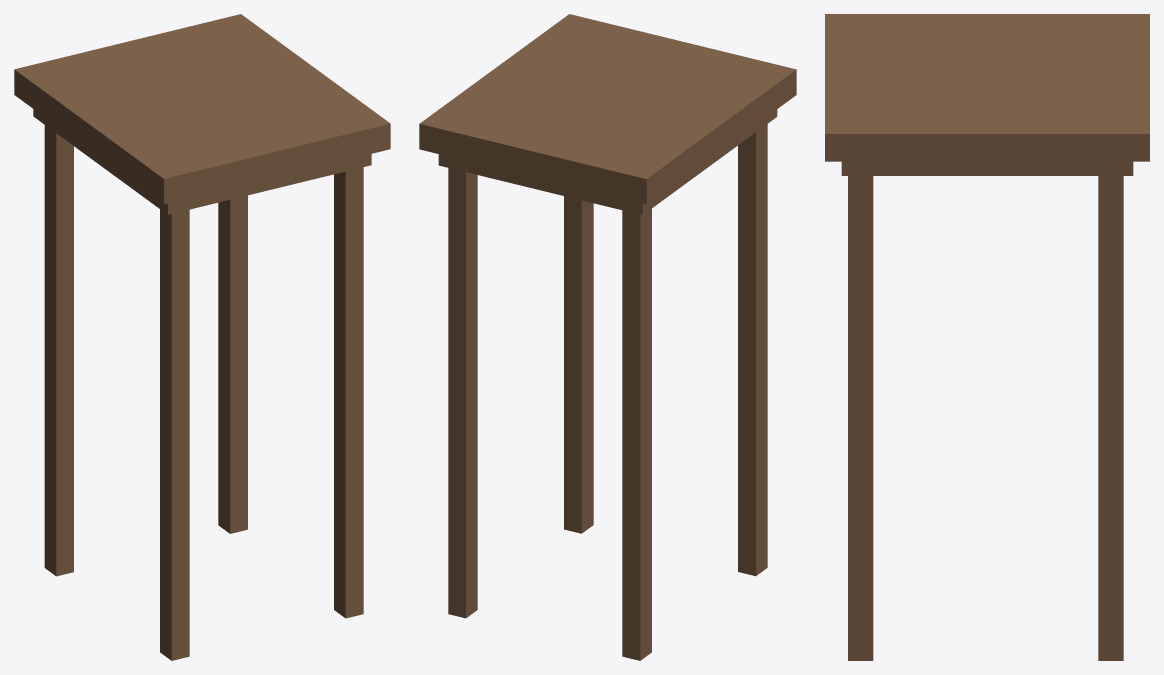
File: BackhouseNightstand.fbx
The picture shows the model from 3 angles, left to right: view 1: azimuth 30°, elevation 25°; view 2: azimuth 150°, elevation 25°; view 3: azimuth 270°, elevation 25°; orthographic projection. The views are drawn at different scales.
Visible parts, largest first — view 1: pCube392; view 2: pCube392; view 3: pCube392.
Part boxes in pixels (box(x1,y1,x2,y2)): pCube392: box(14, 14, 390, 660); pCube392: box(419, 14, 796, 660); pCube392: box(825, 14, 1149, 660).
Size of the model in its own units: 0.2159 by 0.4496 by 0.2469.
